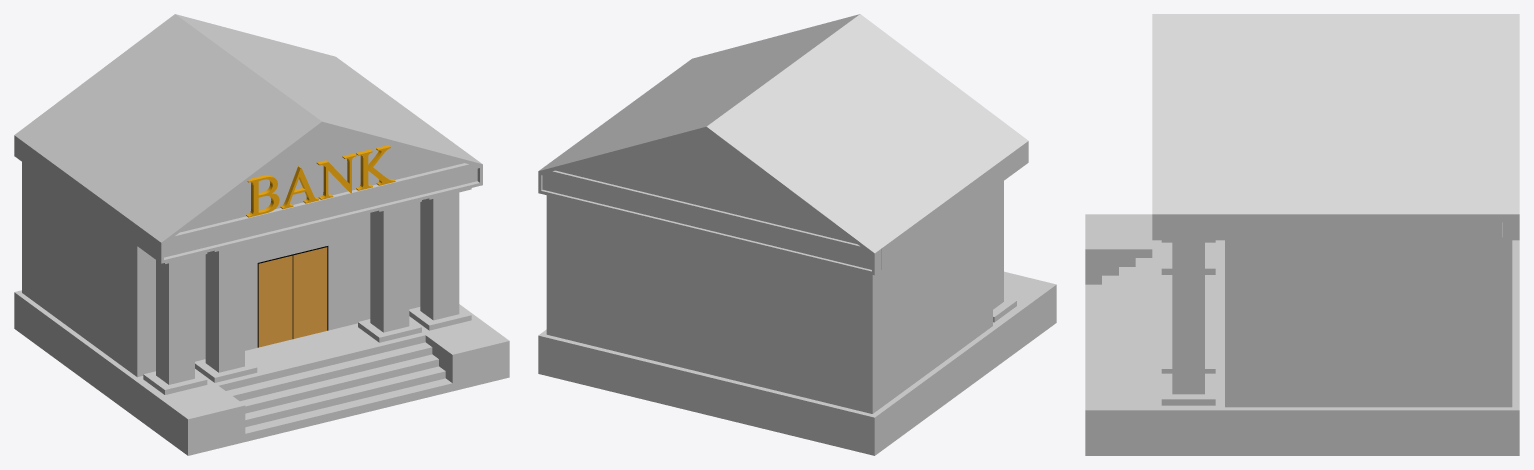
Rendered from Bank.fbx.
3 views of the same model, side by side, from view 1: azimuth 30°, elevation 25°; view 2: azimuth 150°, elevation 25°; view 3: azimuth 270°, elevation 25° (orthographic). The views are drawn at different scales.
Parts seen in each view (by area): view 1: Model; view 2: Model; view 3: Model.
Part boxes in pixels (box(x1,y1,x2,y2)): Model: box(14, 14, 509, 455); Model: box(538, 14, 1056, 455); Model: box(1085, 14, 1519, 455).
Bounding box in the file's own units: 196 × 161 × 184.
